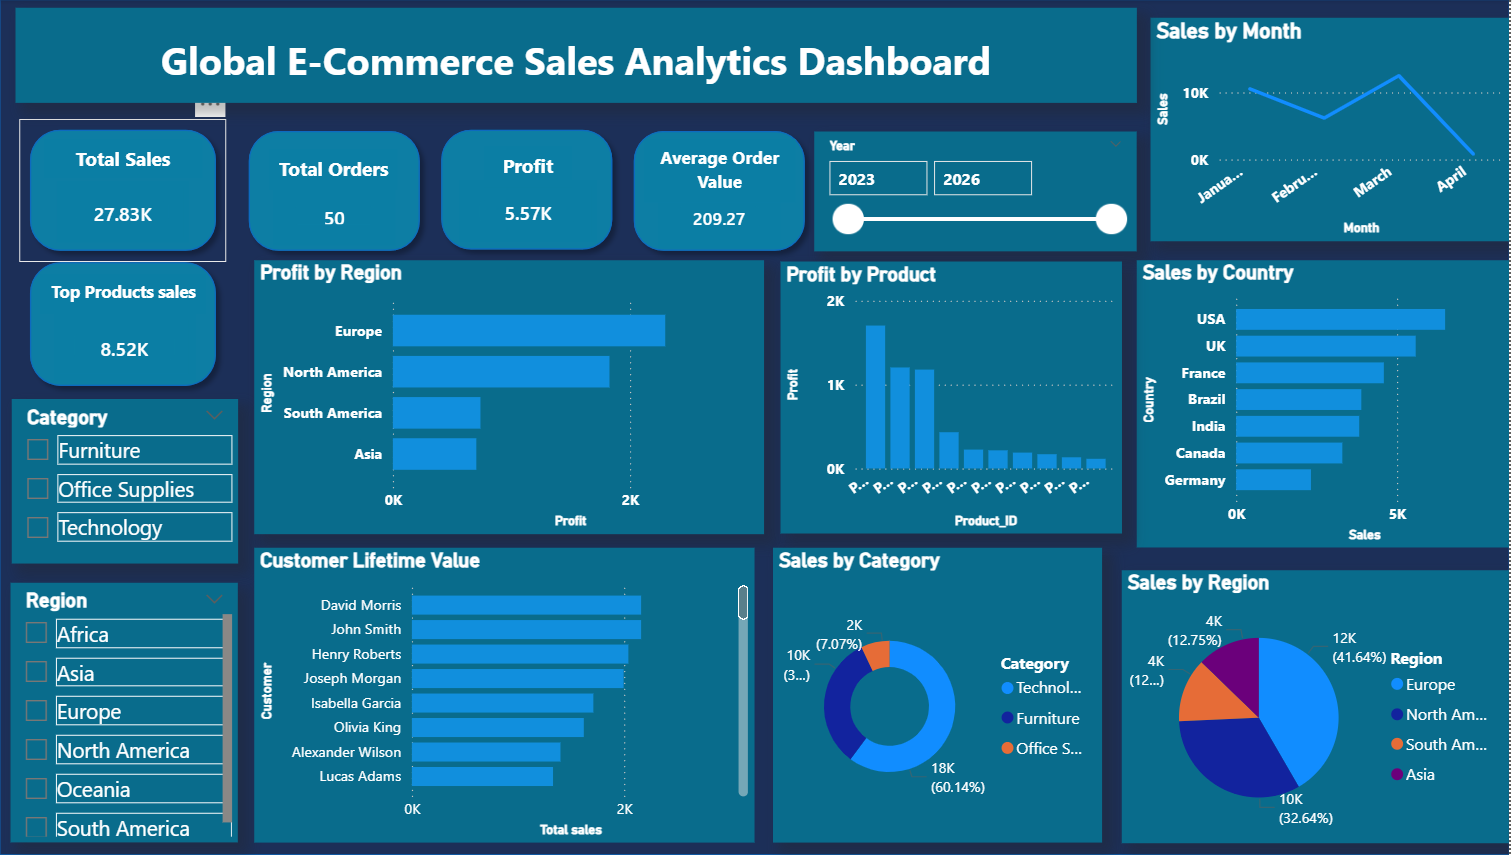

The dashboard page shown, as its layout file describes it:
{"tool":"powerbi","page":{"name":"Page 1","canvas":[1280,720],"ordinal":0},"visuals":[{"type":"shape","box":[384.8,100.9,161.9,118.8],"z":0},{"type":"shape","box":[9.6,0,1270.7,720.4],"z":1000},{"type":"shape","box":[26.7,101.2,174.4,119.8],"z":2000},{"type":"textbox","box":[47.7,117.4,132.6,32.6],"z":3000},{"type":"slicer","fields":{"Values":["Calendar.Year"]},"box":[695.4,111.6,270.9,101.2],"z":7000},{"type":"lineChart","fields":{"Y":["Orders.Sales"],"Category":["Orders.Order_Date.Variation.Date Hierarchy.Month"]},"box":[977.8,15.8,301.8,188.2],"z":8000},{"type":"cardVisual","fields":{"Data":["Calendar.Total Revenue"]},"box":[57.8,153.5,111.4,51.5],"z":9000},{"type":"slicer","fields":{"Values":["Products.Category"]},"box":[20,336.5,190.3,138.8],"z":10000},{"type":"slicer","fields":{"Values":["Regions.Region"]},"box":[18.9,491,191.4,218.7],"z":11000},{"type":"clusteredBarChart","fields":{"Y":["Calendar.Profit"],"Category":["Regions.Region"]},"box":[223.9,219.7,429,230.3],"z":12000},{"type":"clusteredBarChart","fields":{"Y":["Orders.Sales"],"Category":["Regions.Country"]},"box":[966.2,219.7,313.3,241.8],"z":13000},{"type":"clusteredColumnChart","title":"Profit by Product","fields":{"Y":["Calendar.Profit"],"Category":["Products.Product_ID"]},"box":[666.3,220.9,287.2,229.1],"z":14000},{"type":"donutChart","fields":{"Y":["Orders.Sales"],"Category":["Products.Category"]},"box":[660.3,461.6,276.5,248.1],"z":15000},{"type":"clusteredBarChart","title":"Customer Lifetime Value","fields":{"Category":["Customers.Customer_Name"],"Y":["Calendar.Total sales"]},"box":[223.9,461.6,420.6,248.1],"z":16000},{"type":"shape","box":[26.7,212.8,174.4,122.1],"z":17000},{"type":"pieChart","fields":{"Category":["Regions.Region"],"Y":["Orders.Sales"]},"box":[953.6,480.5,325.9,229.2],"z":18000},{"type":"textbox","box":[44.2,231.4,139.5,33.7],"z":19000},{"type":"cardVisual","fields":{"Data":["Calendar.Top Product Sales"]},"box":[55.7,265,118.8,55.7],"z":20000},{"type":"shape","box":[210.3,102,161.9,118.8],"z":21000},{"type":"textbox","box":[23.3,7,943,80.2],"z":22000},{"type":"cardVisual","fields":{"Data":["Calendar.Total ordrs"]},"box":[239.7,157.7,103,49.4],"z":23000},{"type":"textbox","box":[236.6,126.2,108.3,34.7],"z":24000},{"type":"shape","box":[372.2,100.9,161.9,118.8],"z":25000},{"type":"cardVisual","fields":{"Data":["Calendar.Profit"]},"box":[396.5,152.3,116.3,52.3],"z":26000},{"type":"textbox","box":[417.4,124.1,73.6,34.7],"z":27000},{"type":"shape","box":[534.1,102,161.9,118.8],"z":28000},{"type":"cardVisual","fields":{"Data":["Calendar.Avarage order value"]},"box":[564,158.1,103.5,52.3],"z":29000},{"type":"textbox","box":[552,117.8,127.2,53.6],"z":29500}]}

Visuals, with their boxes in screenshot pixels (x1, y1, x2, y2), scaled from the page's 1280x720 canvas onto the 1512x855 screenshot:
shape: (left=455, top=120, right=646, bottom=261)
shape: (left=11, top=0, right=1511, bottom=854)
shape: (left=32, top=120, right=238, bottom=262)
textbox: (left=56, top=139, right=213, bottom=178)
slicer - Calendar.Year: (left=821, top=133, right=1141, bottom=253)
lineChart - Orders.Sales x Orders.Order_Date.Variation.Date Hierarchy.Month: (left=1155, top=19, right=1511, bottom=242)
cardVisual - Calendar.Total Revenue: (left=68, top=182, right=200, bottom=243)
slicer - Products.Category: (left=24, top=400, right=248, bottom=564)
slicer - Regions.Region: (left=22, top=583, right=248, bottom=843)
clusteredBarChart - Calendar.Profit x Regions.Region: (left=264, top=261, right=771, bottom=534)
clusteredBarChart - Orders.Sales x Regions.Country: (left=1141, top=261, right=1511, bottom=548)
"Profit by Product" clusteredColumnChart: (left=787, top=262, right=1126, bottom=534)
donutChart - Orders.Sales x Products.Category: (left=780, top=548, right=1107, bottom=843)
"Customer Lifetime Value" clusteredBarChart: (left=264, top=548, right=761, bottom=843)
shape: (left=32, top=253, right=238, bottom=398)
pieChart - Regions.Region x Orders.Sales: (left=1126, top=571, right=1511, bottom=843)
textbox: (left=52, top=275, right=217, bottom=315)
cardVisual - Calendar.Top Product Sales: (left=66, top=315, right=206, bottom=381)
shape: (left=248, top=121, right=440, bottom=262)
textbox: (left=28, top=8, right=1141, bottom=104)
cardVisual - Calendar.Total ordrs: (left=283, top=187, right=405, bottom=246)
textbox: (left=279, top=150, right=407, bottom=191)
shape: (left=440, top=120, right=631, bottom=261)
cardVisual - Calendar.Profit: (left=468, top=181, right=606, bottom=243)
textbox: (left=493, top=147, right=580, bottom=189)
shape: (left=631, top=121, right=822, bottom=262)
cardVisual - Calendar.Avarage order value: (left=666, top=188, right=788, bottom=250)
textbox: (left=652, top=140, right=802, bottom=204)
